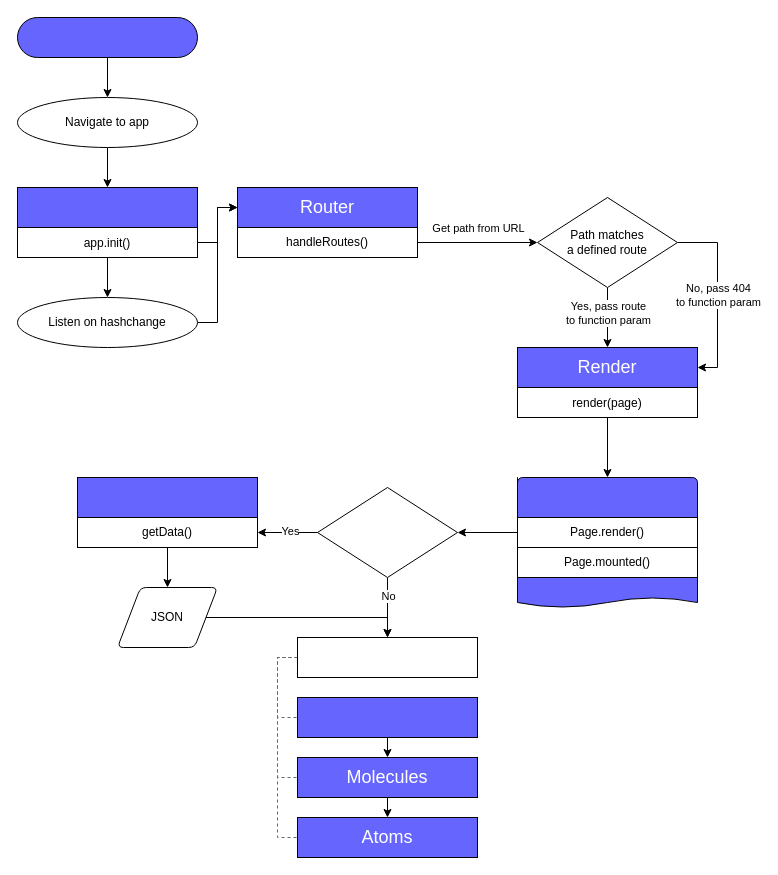
Some shapes in this 778 by 875 pixel diagram are drawn without their labels. The shapes that lost their labels are listed below. From the top down, each one's centre as x and y in pixels, then its label:
At (107,37): "Start".
At (107,207): "App".
At (167,497): "API".
At (607,497): "Page".
At (387,532): "Request data".
At (387,657): "Components".
At (387,717): "Organisms".
